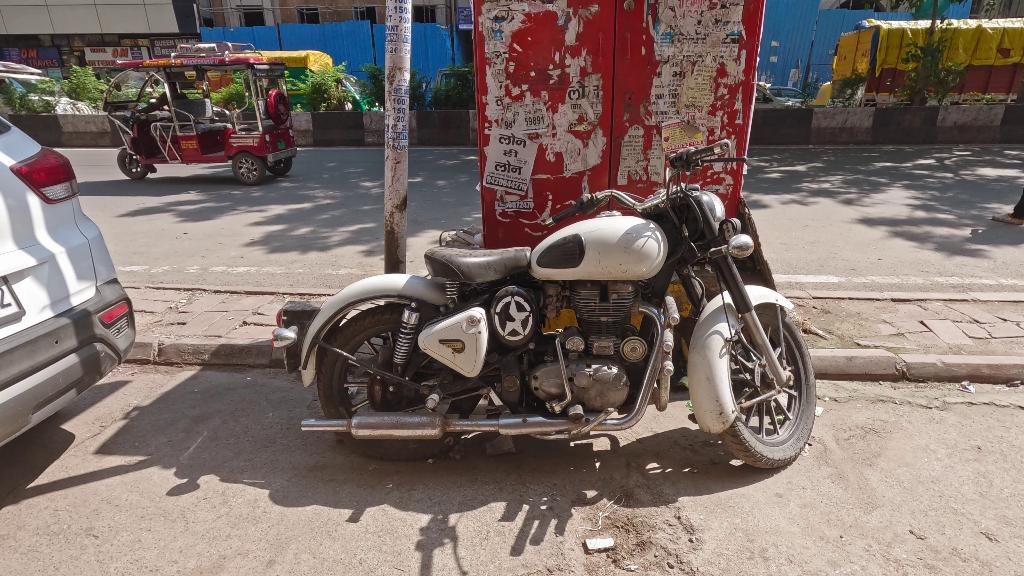garbage: (584, 536, 618, 549)
